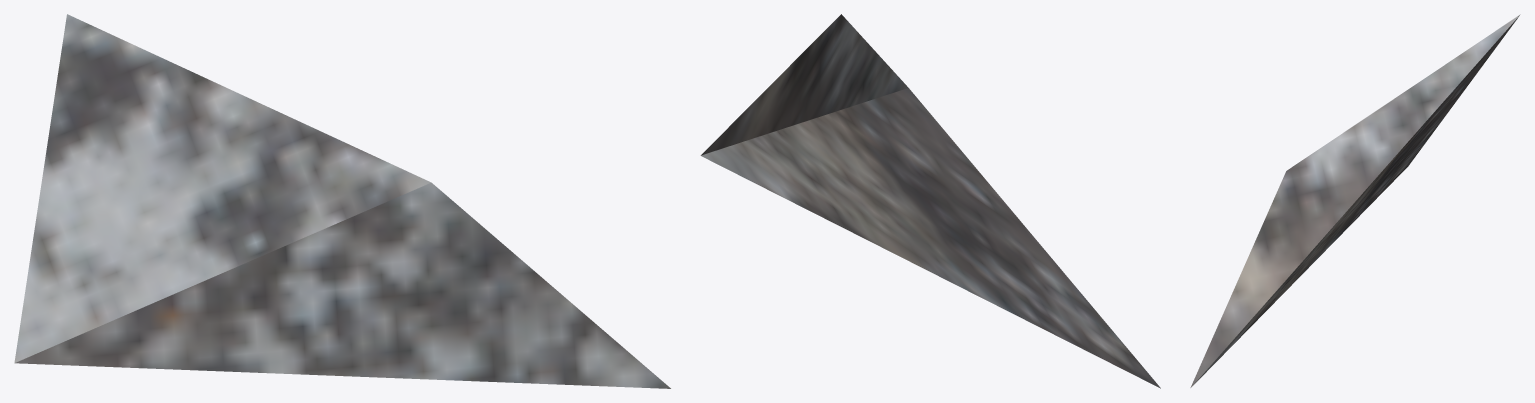
The model's file is Asteroid_Large_001_02_006_03_003.fbx.
The picture shows the model from 3 angles, left to right: view 1: azimuth 30°, elevation 25°; view 2: azimuth 150°, elevation 25°; view 3: azimuth 270°, elevation 25°; orthographic projection. The views are drawn at different scales.
Visible parts, largest first — view 1: Asteroid_Large_001_02_006_03_003; view 2: Asteroid_Large_001_02_006_03_003; view 3: Asteroid_Large_001_02_006_03_003.
Part boxes in pixels (<box>): Asteroid_Large_001_02_006_03_003: <box>14,14,670,388</box>; Asteroid_Large_001_02_006_03_003: <box>700,14,1160,388</box>; Asteroid_Large_001_02_006_03_003: <box>1190,14,1520,387</box>.
Bounding box in the file's own units: 2.46 × 1.42 × 1.83.
